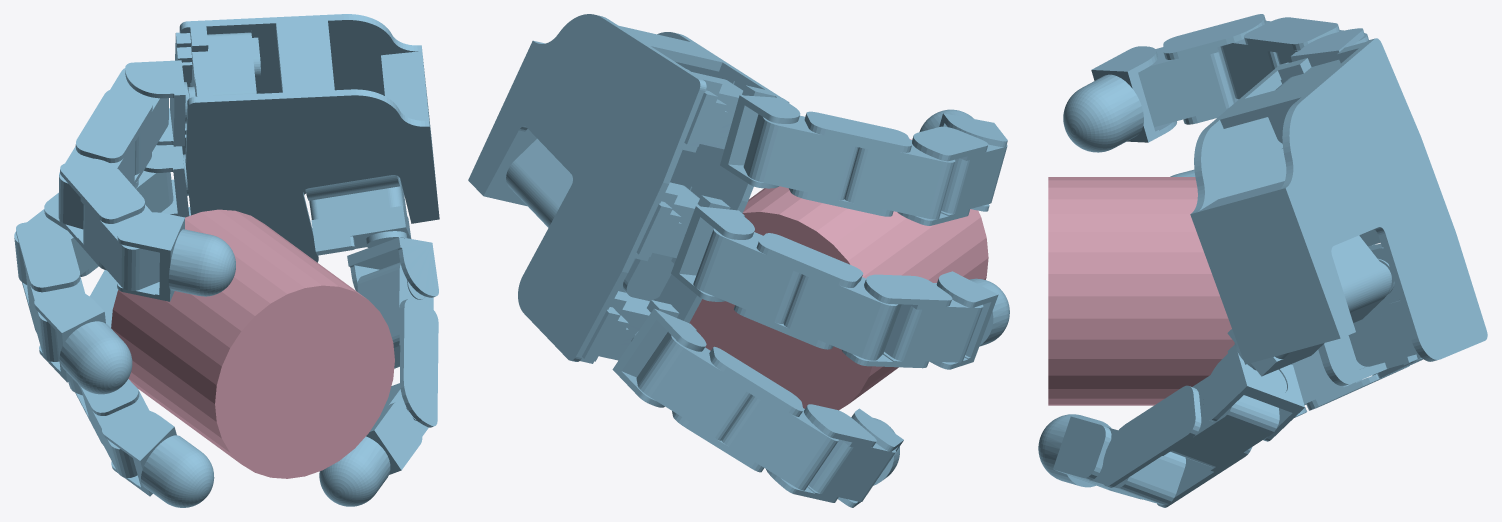
3 views of the same model, side by side, from view 1: azimuth 30°, elevation 25°; view 2: azimuth 150°, elevation 25°; view 3: azimuth 270°, elevation 25° (orthographic). The views are drawn at different scales.
Visible parts, largest first — view 1: world, cylinder_medium.stl; view 2: world, cylinder_medium.stl; view 3: world, cylinder_medium.stl.
Boxes of the visible parts, x1,y1,x2,y2 form: world: (14,14,439,507); cylinder_medium.stl: (111,209,394,478); world: (468,14,1009,507); cylinder_medium.stl: (689,138,988,410); world: (1038,14,1487,507); cylinder_medium.stl: (1048,177,1234,405).
Bounding box in the file's own units: 0.1927 × 0.175 × 0.1572.
